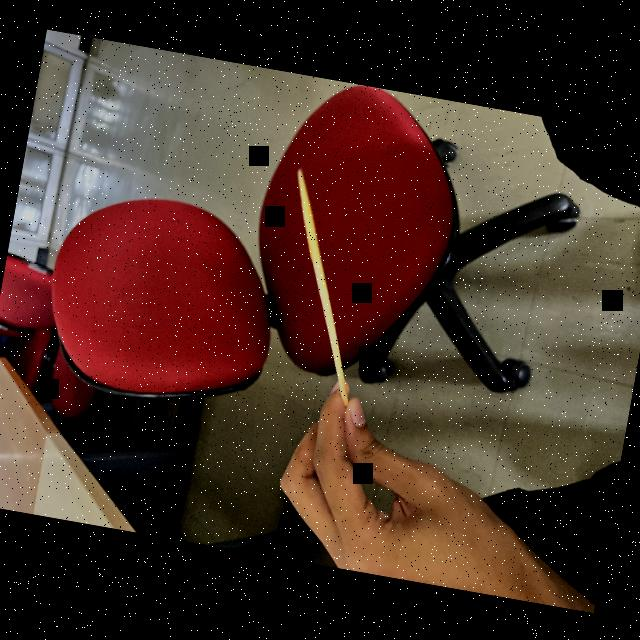stick: (258, 158, 393, 410)
